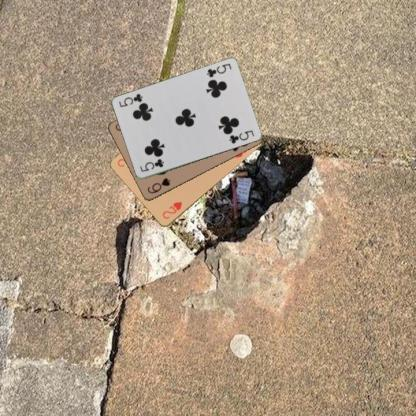2h: (160, 199, 183, 221)
5c: (204, 61, 233, 79), (137, 156, 165, 173)
6s: (144, 175, 172, 195)
